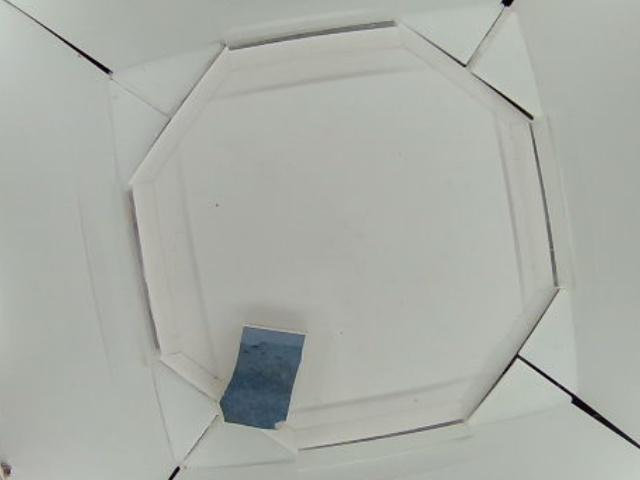China: (218, 324, 307, 428)
